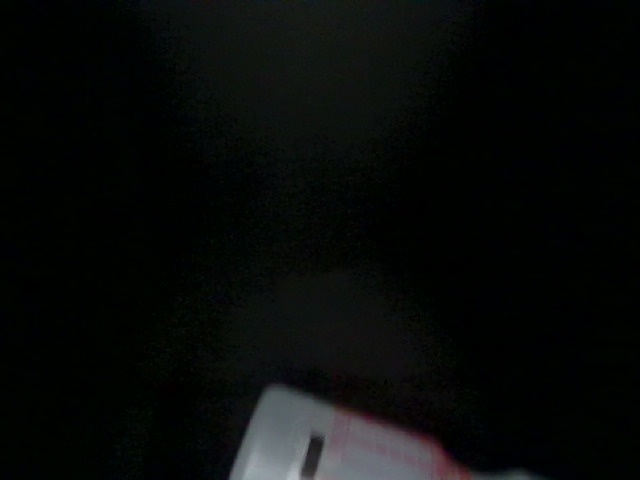CYLJ: (464, 46, 640, 427)
